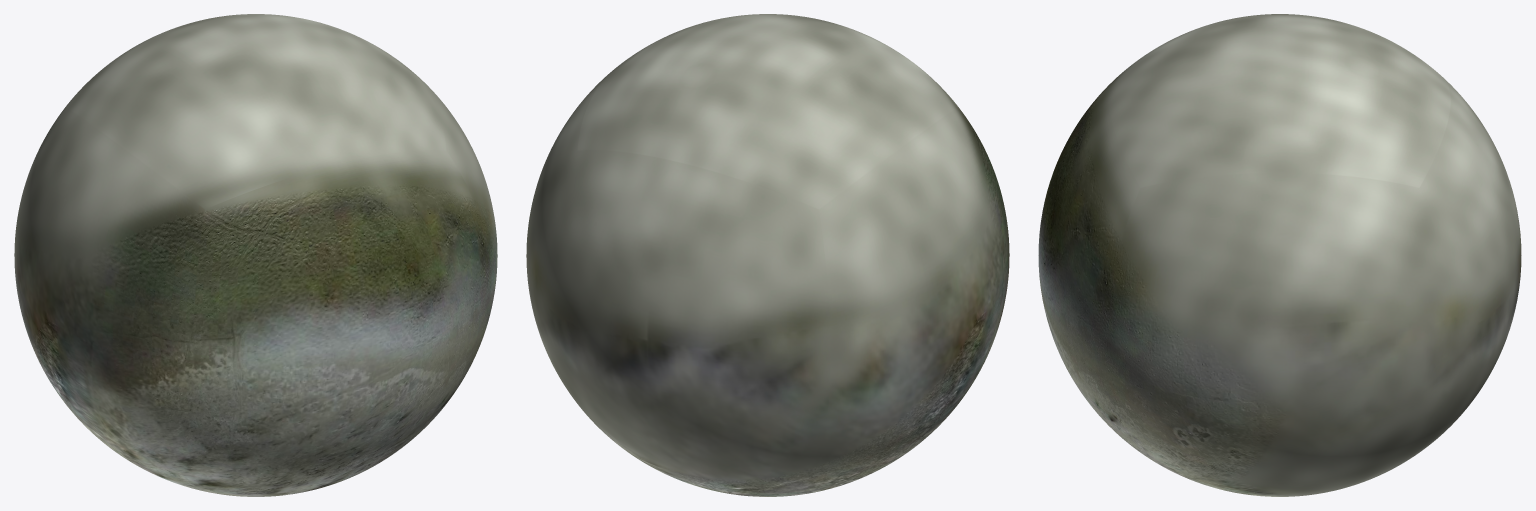
File: triton.glb
3 views of the same model, side by side, from view 1: azimuth 30°, elevation 25°; view 2: azimuth 150°, elevation 25°; view 3: azimuth 270°, elevation 25° (orthographic).
Visible parts, largest first — view 1: triton_globe; view 2: triton_globe; view 3: triton_globe.
Part boxes in pixels (x1=…): triton_globe: x1=14, y1=14, x2=497, y2=496; triton_globe: x1=526, y1=14, x2=1009, y2=496; triton_globe: x1=1038, y1=14, x2=1521, y2=496.
Size of the model in its own units: 2 by 2 by 2.
1 material, 1 textured.
